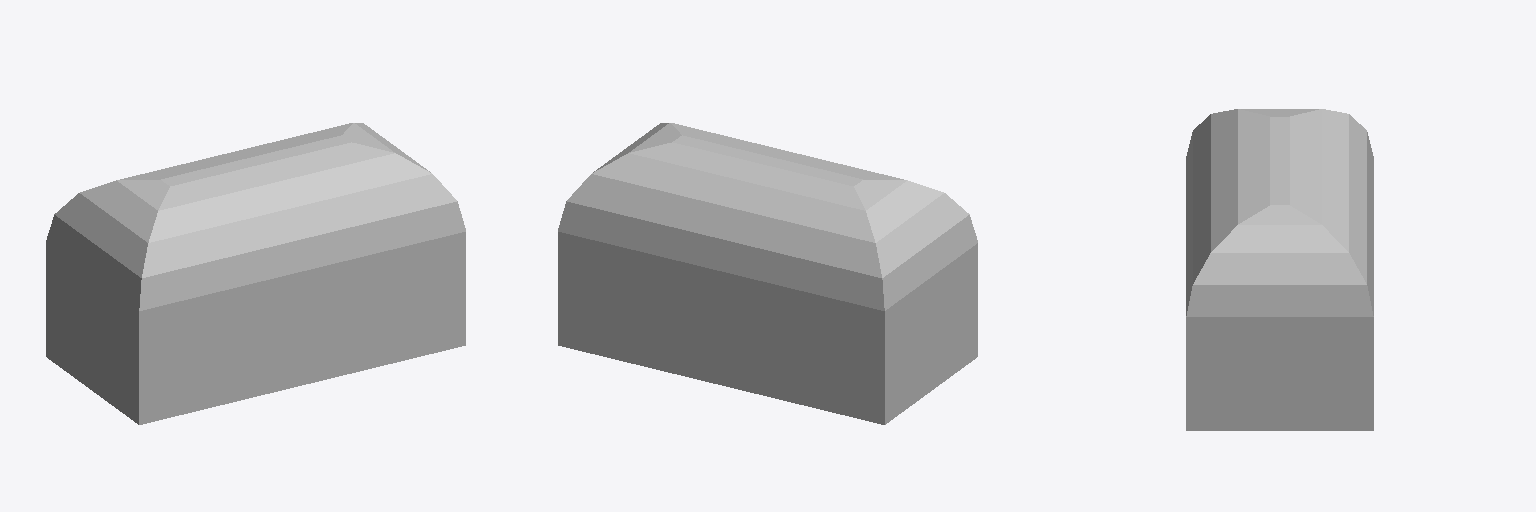
Rendered from House2.obj.
3 renders of one model, left to right at view 1: azimuth 30°, elevation 25°; view 2: azimuth 150°, elevation 25°; view 3: azimuth 270°, elevation 25°, orthographic.
Parts seen in each view (by area): view 1: Cube; view 2: Cube; view 3: Cube.
Boxes of the visible parts, box(x1,y1,x2,y2) form: Cube: box(46, 123, 465, 424); Cube: box(558, 123, 977, 424); Cube: box(1186, 109, 1373, 430).
Size of the model in its own units: 2.02 by 1.12 by 1.